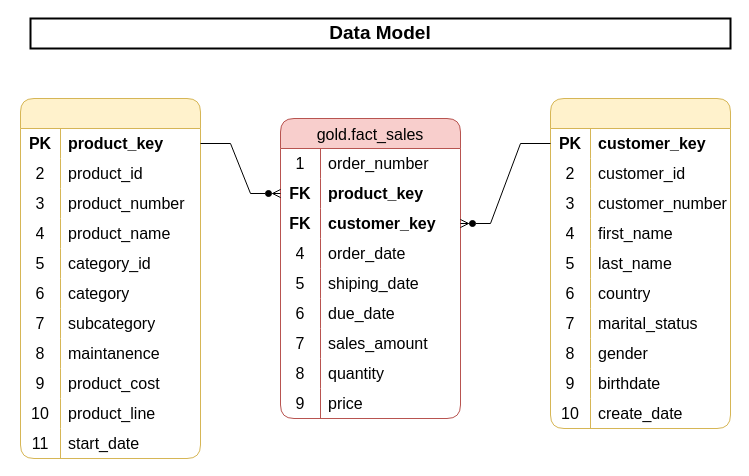
The diagram is 749 pixels wide and 476 high, and some of its shapes have lost their labels. The shapes that lost their labels are listed below. From the top down, each one's box as (x1, y1, x2, y2) in pixels, then its label:
(20, 98, 200, 458): gold.dim_products
(550, 98, 730, 428): gold.dim_customers
